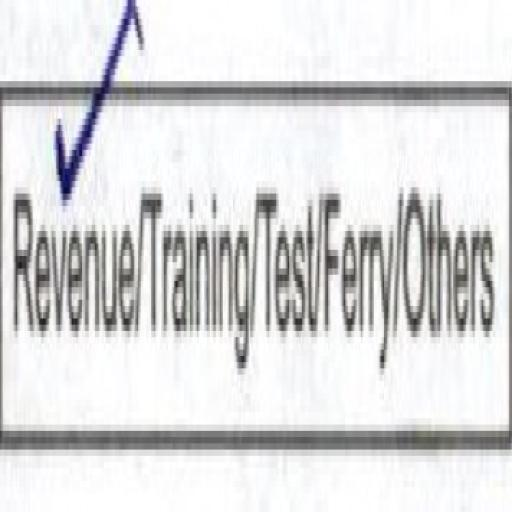check: (0, 0, 138, 451)
